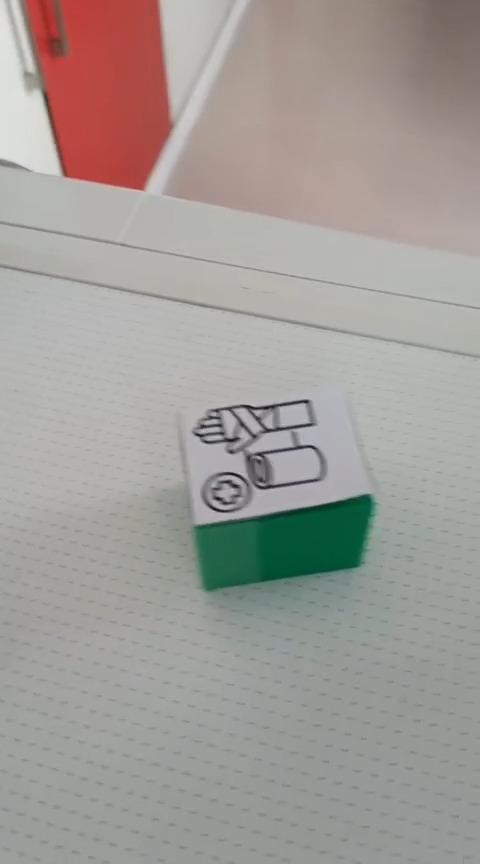Bandages: (177, 391, 374, 591)
